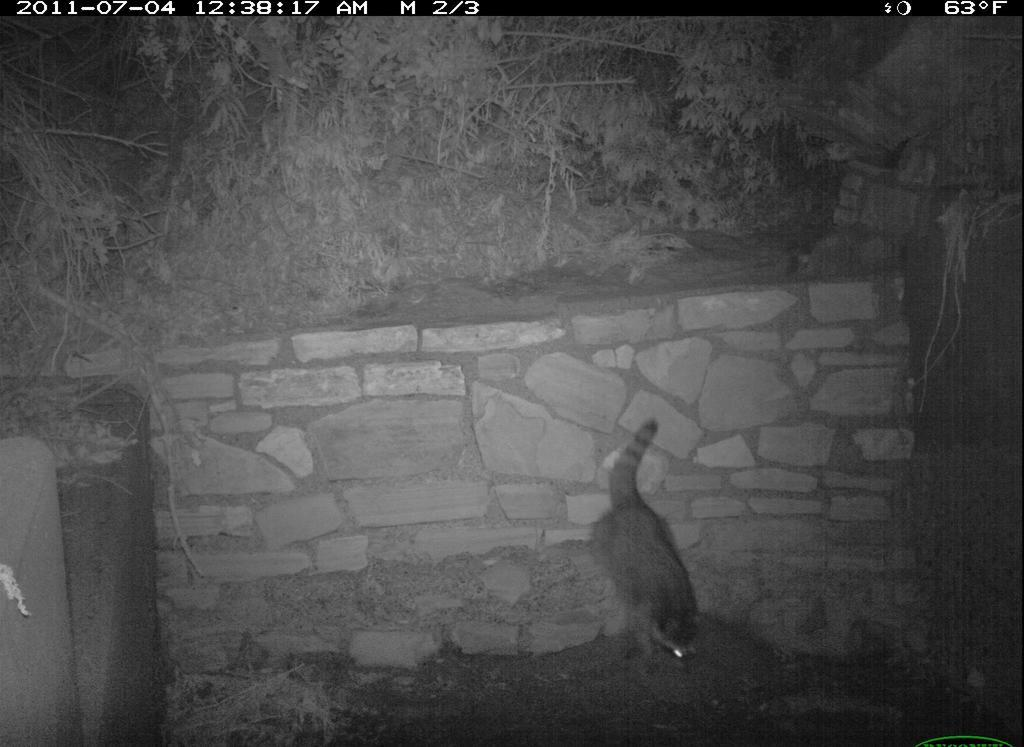raccoon: (580, 406, 748, 687)
